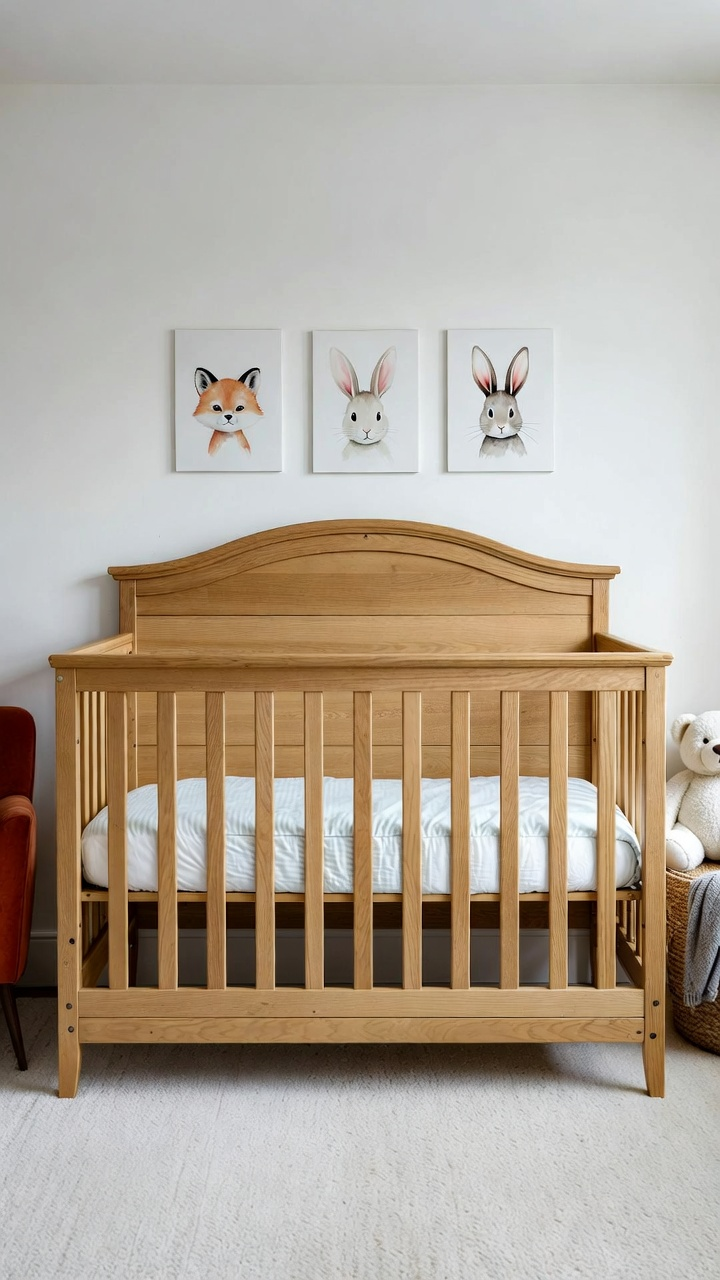crib: (53, 522, 670, 1102)
